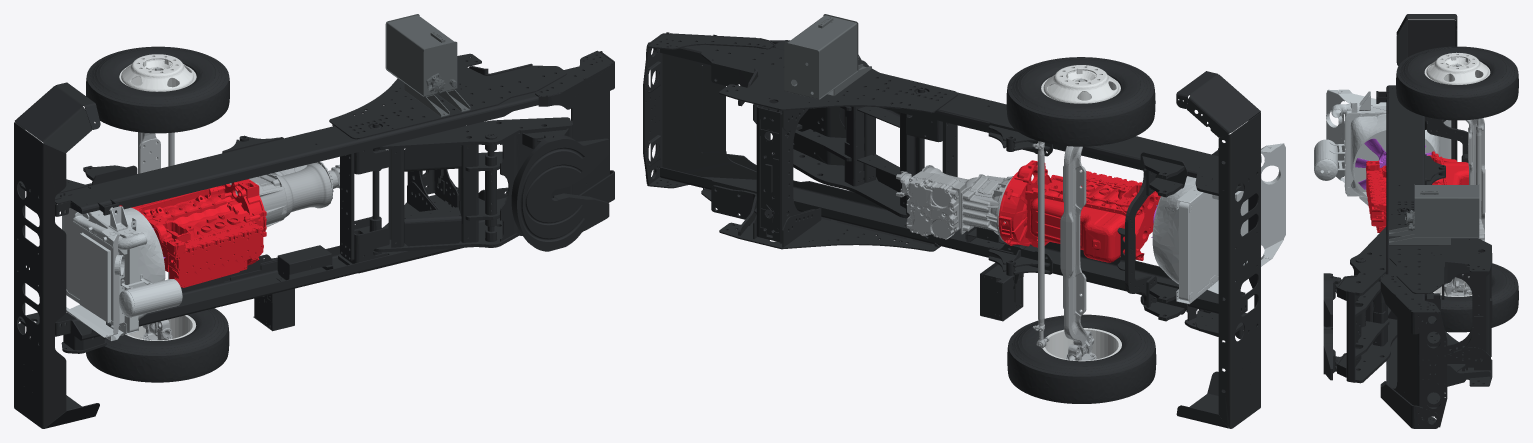
File: tinker.obj
3 views of the same model, side by side, from view 1: azimuth 30°, elevation 25°; view 2: azimuth 150°, elevation 25°; view 3: azimuth 270°, elevation 25° (orthographic). The views are drawn at different scales.
Visible parts, largest first — view 1: obj_8, obj_3, obj_0, obj_7, obj_1, obj_14, obj_4, obj_11, obj_5, obj_16, obj_9, obj_15 (+2 smaller); view 2: obj_8, obj_3, obj_0, obj_7, obj_14, obj_11, obj_1, obj_2, obj_16, obj_5, obj_9, obj_15 (+1 smaller); view 3: obj_8, obj_14, obj_0, obj_7, obj_5, obj_11, obj_3, obj_1, obj_2, obj_15, obj_4, obj_6.
Boxes of the visible parts, x1,y1,x2,y2 form: obj_8: (19, 50, 614, 353); obj_3: (14, 82, 100, 428); obj_0: (372, 117, 572, 252); obj_7: (62, 206, 182, 341); obj_1: (119, 179, 266, 287); obj_14: (86, 46, 229, 133); obj_4: (511, 135, 609, 251); obj_11: (86, 308, 229, 382); obj_5: (385, 14, 470, 117); obj_16: (229, 161, 339, 226); obj_9: (253, 245, 333, 331); obj_15: (121, 54, 193, 91); obj_8: (643, 32, 1248, 338); obj_3: (1176, 71, 1260, 428); obj_0: (773, 40, 924, 218); obj_7: (1152, 143, 1285, 304); obj_14: (1006, 57, 1155, 146); obj_11: (1007, 314, 1156, 403); obj_1: (998, 160, 1160, 262); obj_2: (1032, 79, 1096, 360); obj_16: (896, 165, 1013, 241); obj_5: (784, 14, 871, 99); obj_9: (965, 226, 1026, 321); obj_15: (1043, 65, 1118, 103); obj_8: (1376, 85, 1492, 428); obj_14: (1396, 46, 1518, 120); obj_0: (1333, 207, 1406, 383); obj_7: (1314, 89, 1451, 205); obj_5: (1389, 184, 1479, 245); obj_11: (1432, 263, 1518, 332); obj_3: (1396, 14, 1457, 161); obj_1: (1366, 151, 1468, 232); obj_2: (1444, 64, 1485, 296); obj_15: (1426, 52, 1488, 84); obj_4: (1323, 273, 1335, 380); obj_6: (1355, 138, 1431, 189).
Size of the model in its own units: 193 by 100 by 69.63.
